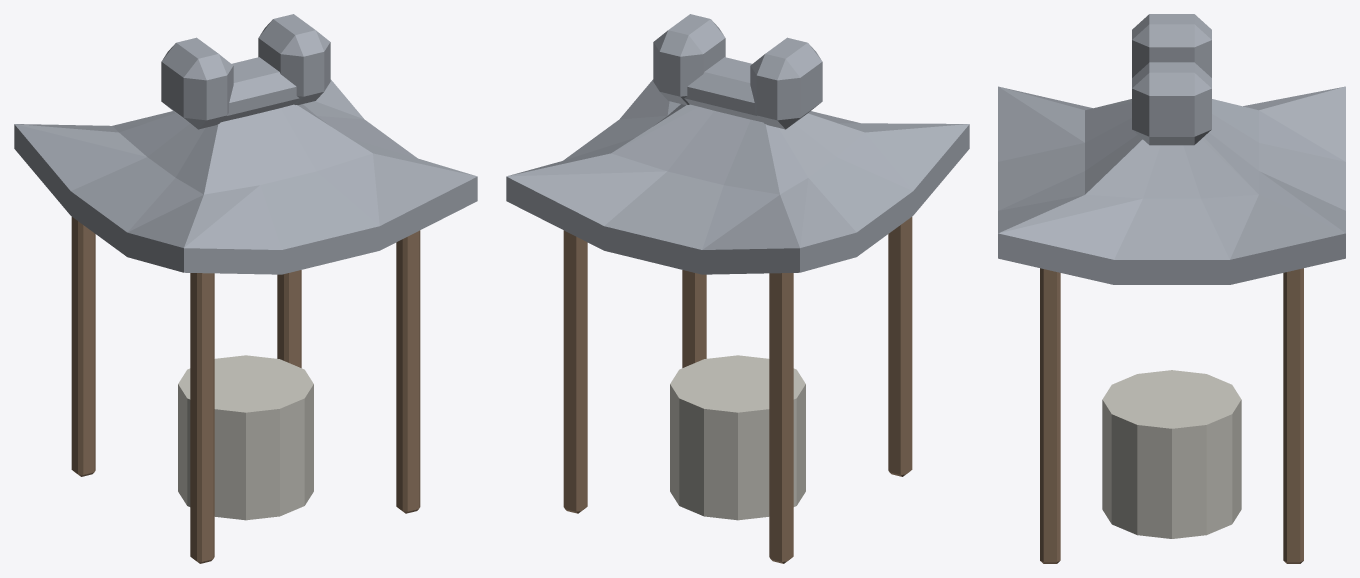
The model's file is incense-pavilion.glb.
3 renders of one model, left to right at view 1: azimuth 30°, elevation 25°; view 2: azimuth 150°, elevation 25°; view 3: azimuth 270°, elevation 25°, orthographic. The views are drawn at different scales.
Visible parts, largest first — view 1: incense-pavilion; view 2: incense-pavilion; view 3: incense-pavilion.
Part boxes in pixels (bbox=[...]): incense-pavilion: bbox=[14, 14, 477, 563]; incense-pavilion: bbox=[506, 14, 969, 563]; incense-pavilion: bbox=[998, 14, 1345, 563].
Bounding box in the file's own units: 2 × 2.96 × 2.
